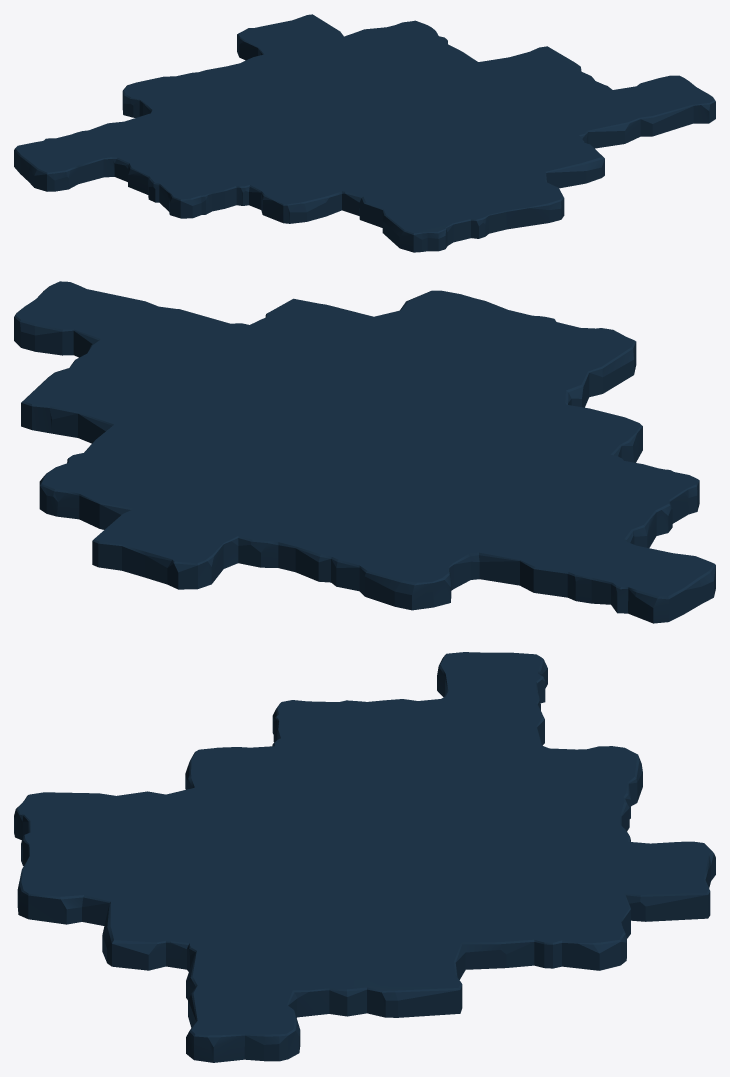
Rendered from map_tile_ground.FBX.
The picture shows the model from 3 angles, top to bottom: view 1: azimuth 30°, elevation 25°; view 2: azimuth 150°, elevation 25°; view 3: azimuth 270°, elevation 25°; orthographic projection. The views are drawn at different scales.
Parts seen in each view (by area): view 1: map_tile_ground_01; view 2: map_tile_ground_01; view 3: map_tile_ground_01.
Part boxes in pixels (x1,y1,x2,y2): map_tile_ground_01: (14,14,715,252); map_tile_ground_01: (14,281,715,623); map_tile_ground_01: (14,652,715,1062).
Bounding box in the file's own units: 3298 × 100 × 2520.
